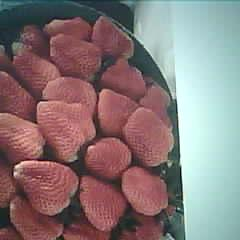straw-ripe: (38, 100, 95, 162), (15, 160, 77, 215), (126, 108, 170, 167), (122, 168, 169, 216)
